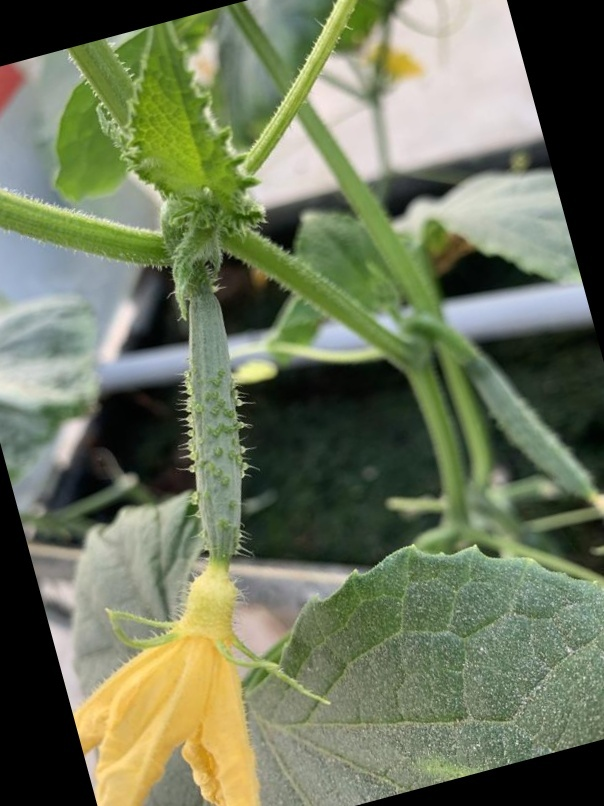bear: (0, 282, 311, 799)
